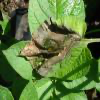Potato leaf early blight: (19, 15, 88, 79)
